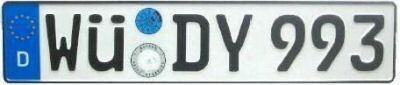3: (350, 11, 386, 73)
9: (269, 13, 306, 73), (310, 12, 346, 72)
D: (170, 10, 211, 74)
W: (43, 11, 81, 72)
Y: (214, 11, 254, 73)
ue: (87, 11, 126, 73)
